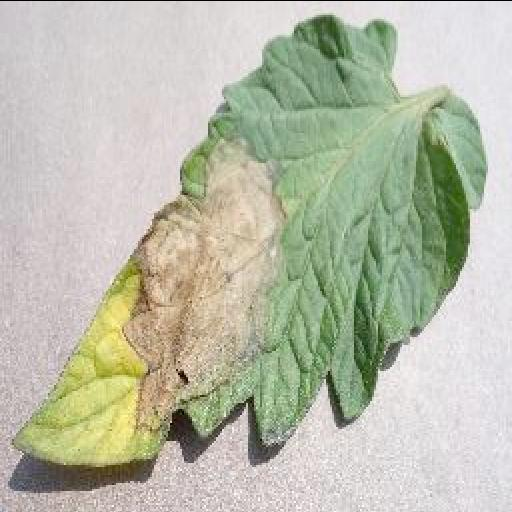disease_tomato: (6, 12, 486, 466)
